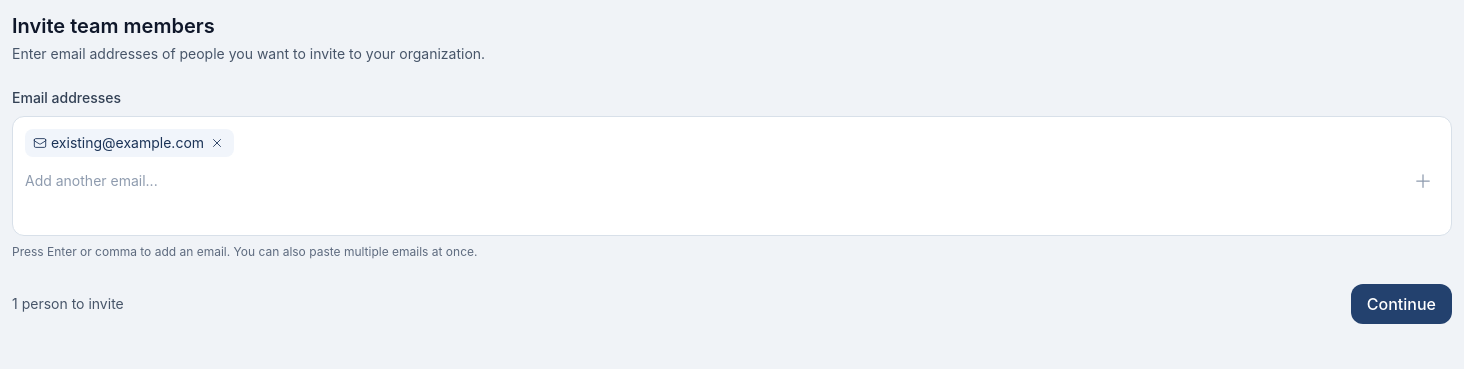
Scenario: EmailEntryStep › Duplicate Detection › shows error for duplicate email
Type "existing@example.com" into the field.
click(712, 181); type("existing@example.com")  # box left=25, top=171, right=1399, bottom=191
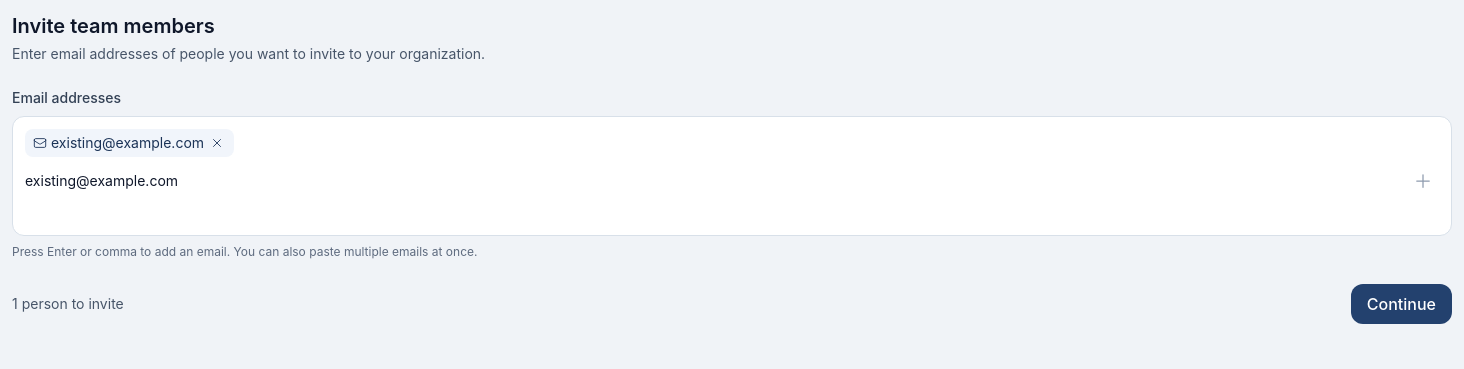
Press Enter in the field, box left=25, top=171, right=1399, bottom=191
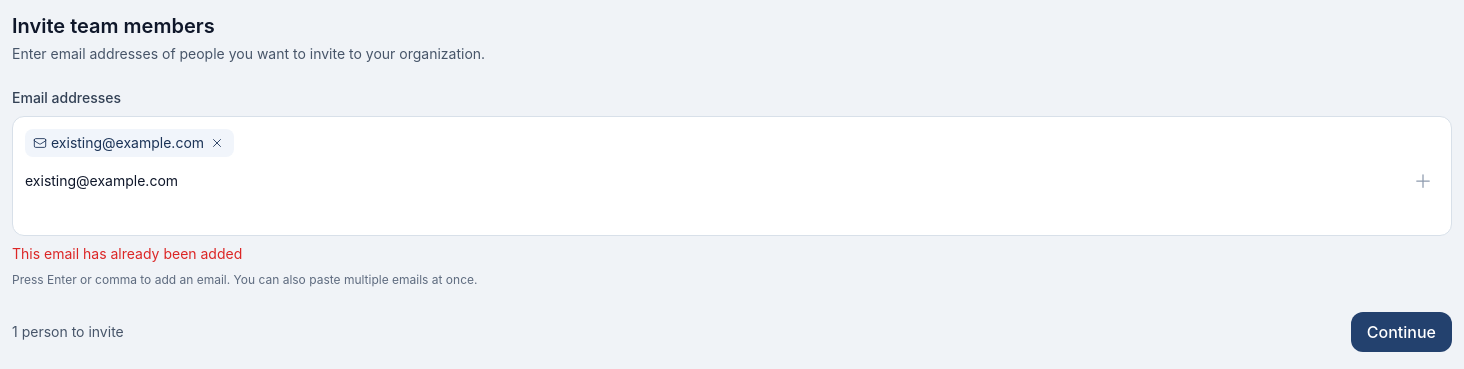
Expected: the text "This email has already been added" is shown, left=12, top=245, right=242, bottom=262
